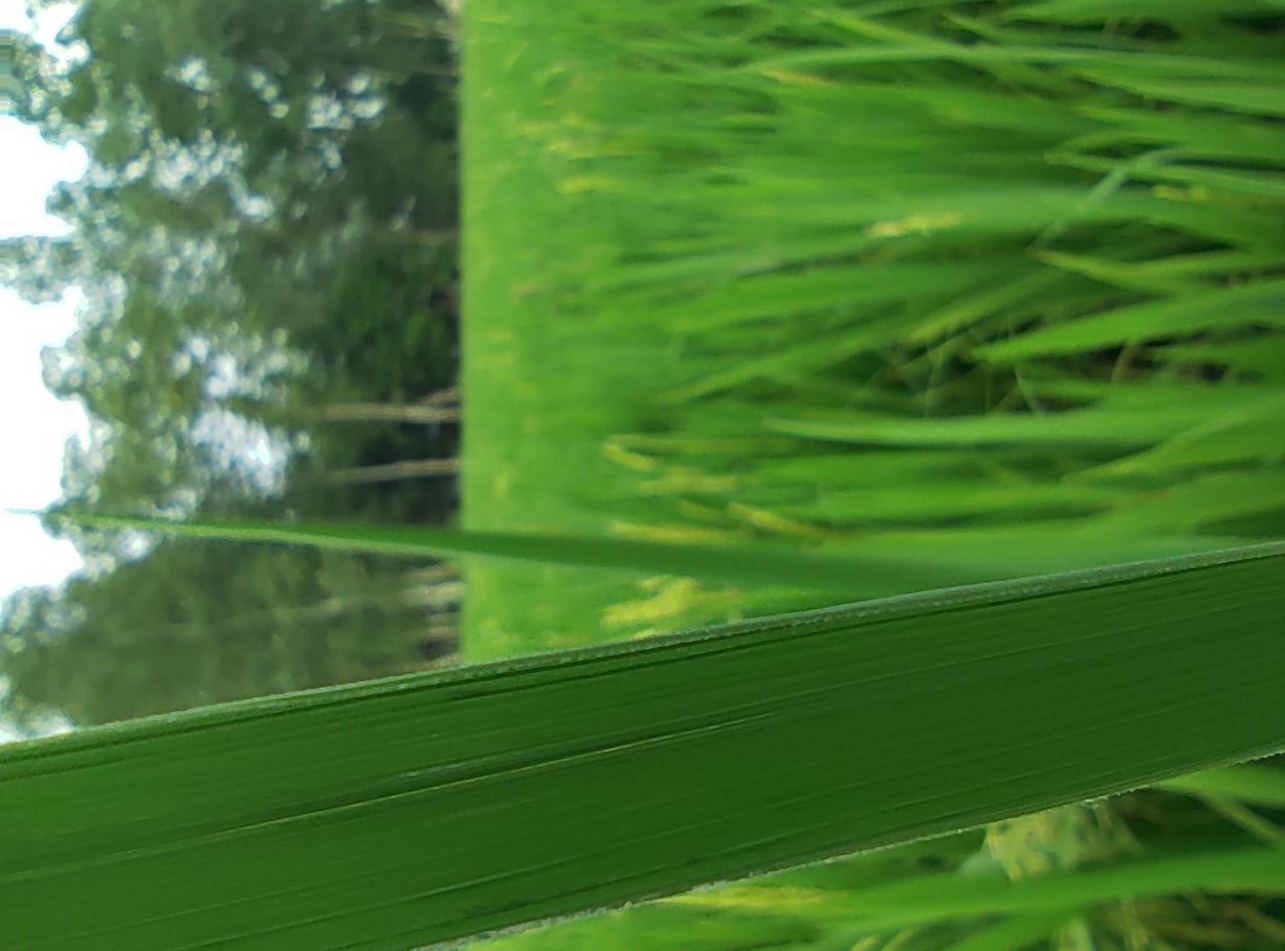Healthy: (1, 543, 1284, 950)
